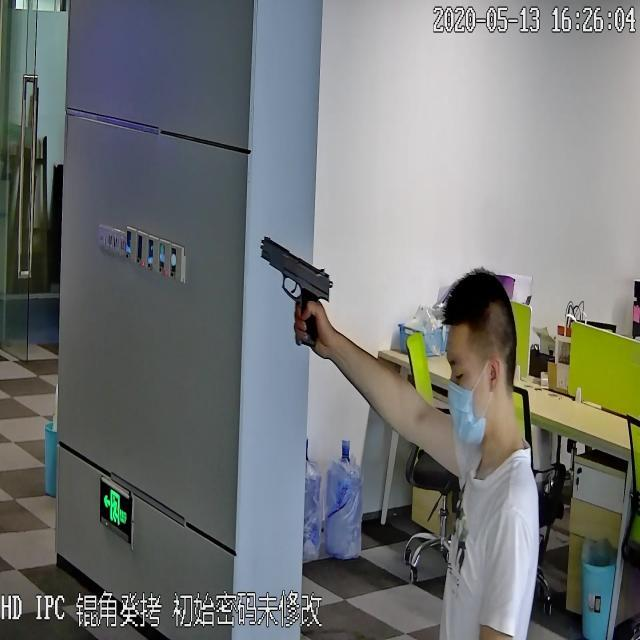gun: (255, 221, 337, 351)
